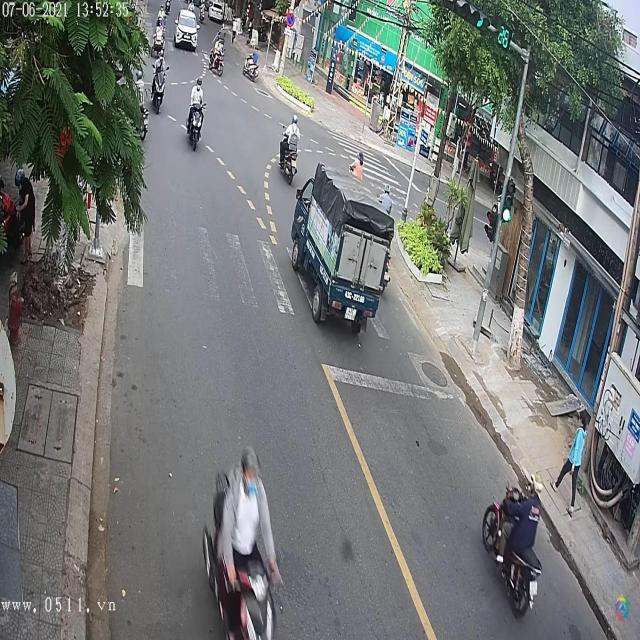car: (173, 5, 200, 50)
motorcycle: (480, 482, 544, 620), (278, 119, 300, 186), (188, 95, 206, 152), (150, 61, 167, 116), (208, 42, 226, 77), (243, 52, 259, 83)
truck: (288, 163, 394, 331)
